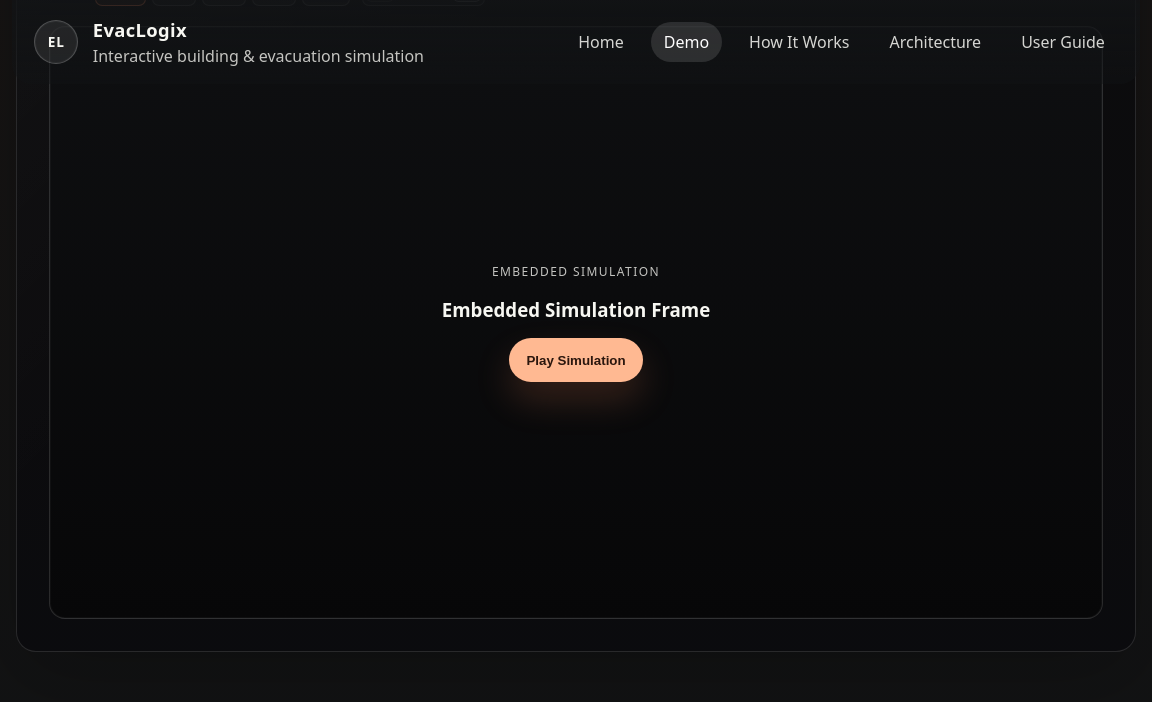
Scenario: demo page › transitions to the unavailable fallback after launch
(page scrolled)
Click the button "Play Simulation".
click(576, 360)  # box x1=509 y1=338 x2=643 y2=382
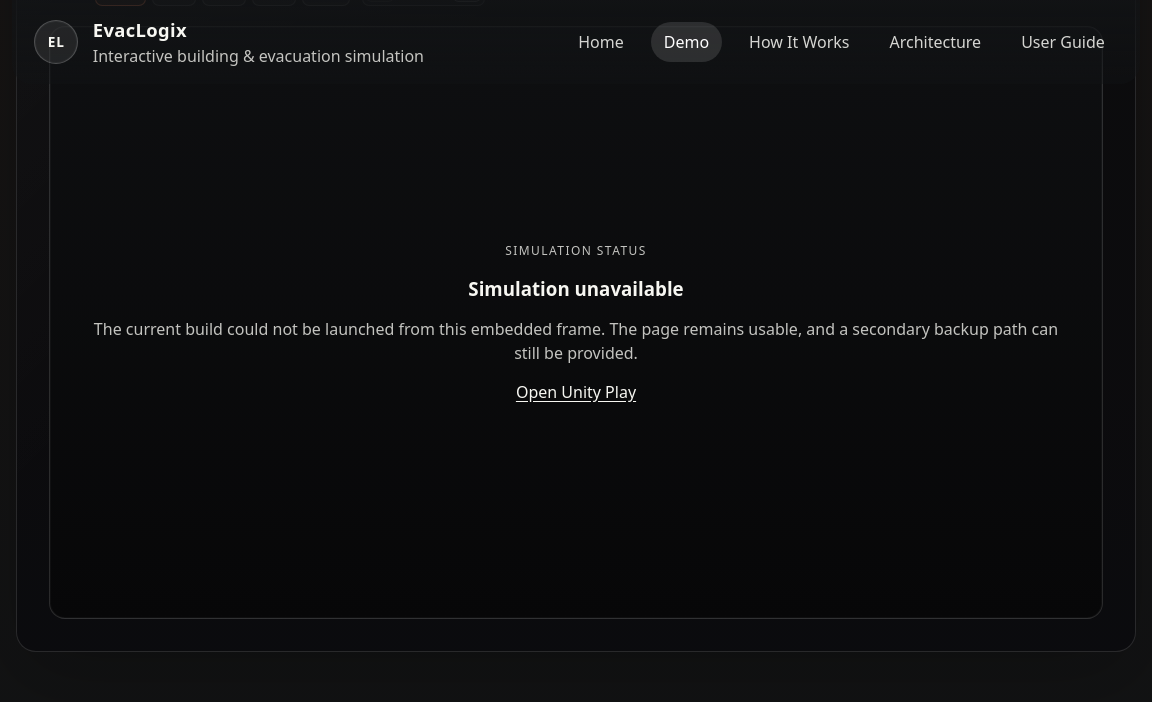
Expected: the heading "Simulation unavailable" is shown, x1=468 y1=275 x2=684 y2=303
Expected: the text "current build could not be launched" is shown, x1=94 y1=318 x2=1058 y2=364
Expected: the link "Open Unity Play" is shown, x1=516 y1=380 x2=636 y2=404
